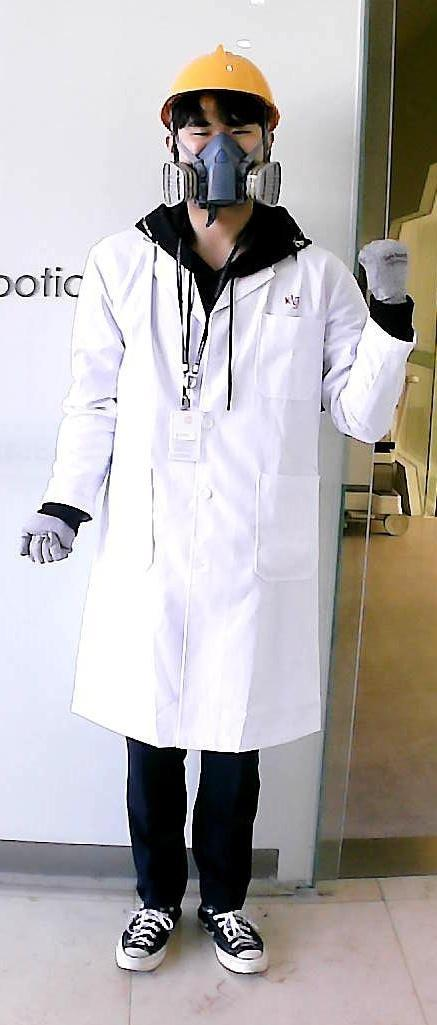lab_coat: (93, 258, 332, 723)
